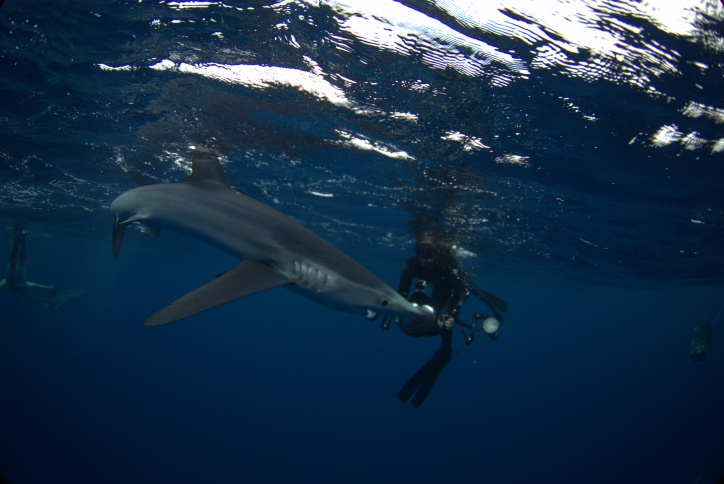Azul: (76, 133, 448, 343)
